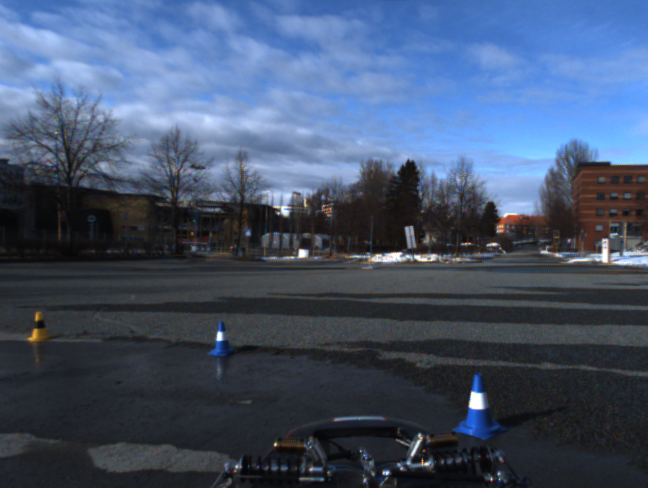cone-small-blue: (452, 373, 509, 440), (208, 321, 237, 357)
cone-small-yellow: (26, 311, 53, 341)
